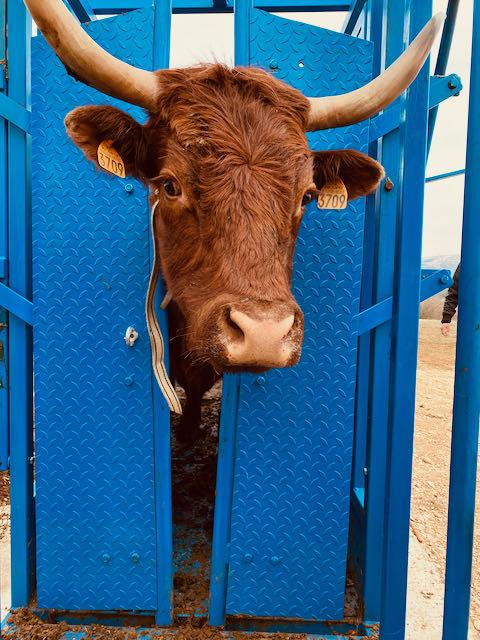muzzles: (192, 298, 308, 376)
